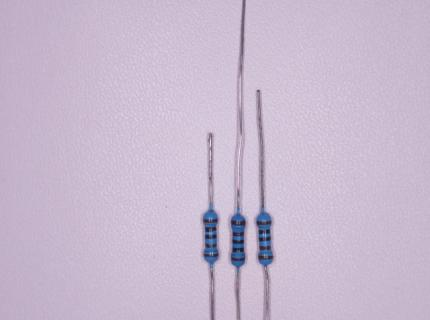Black band: (232, 246, 244, 252), (259, 236, 271, 241), (205, 234, 217, 239), (233, 239, 244, 244), (259, 229, 270, 234), (205, 227, 216, 232)
Brown band: (231, 219, 245, 226), (257, 220, 271, 226), (258, 255, 274, 260), (203, 218, 218, 223), (205, 242, 217, 248), (231, 257, 245, 262), (260, 245, 271, 251), (204, 253, 219, 257), (232, 231, 244, 236)
